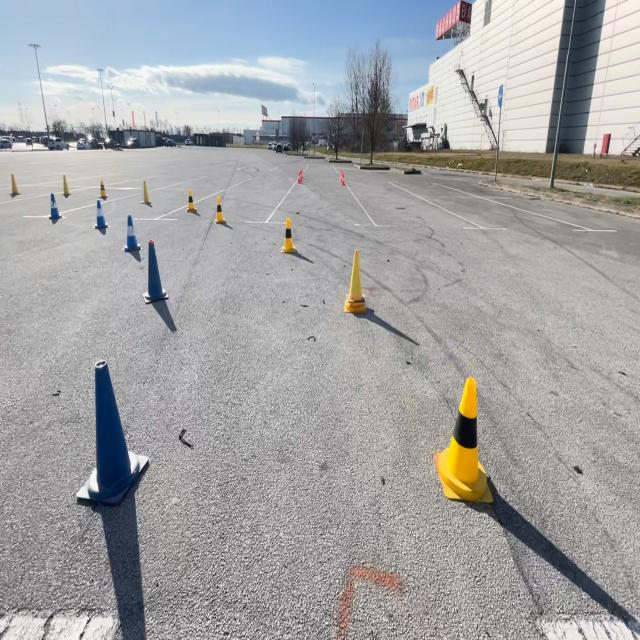blue_cone: (74, 355, 148, 508), (142, 236, 169, 303), (122, 212, 143, 254), (93, 197, 108, 230), (48, 192, 61, 222)
orange_cone: (338, 168, 346, 185), (296, 167, 304, 183)
yellow_cone: (435, 374, 488, 504), (342, 246, 370, 313), (280, 215, 296, 254), (213, 194, 227, 224), (185, 188, 198, 214), (9, 170, 20, 197), (97, 176, 108, 202), (142, 178, 152, 205), (60, 173, 70, 196)
